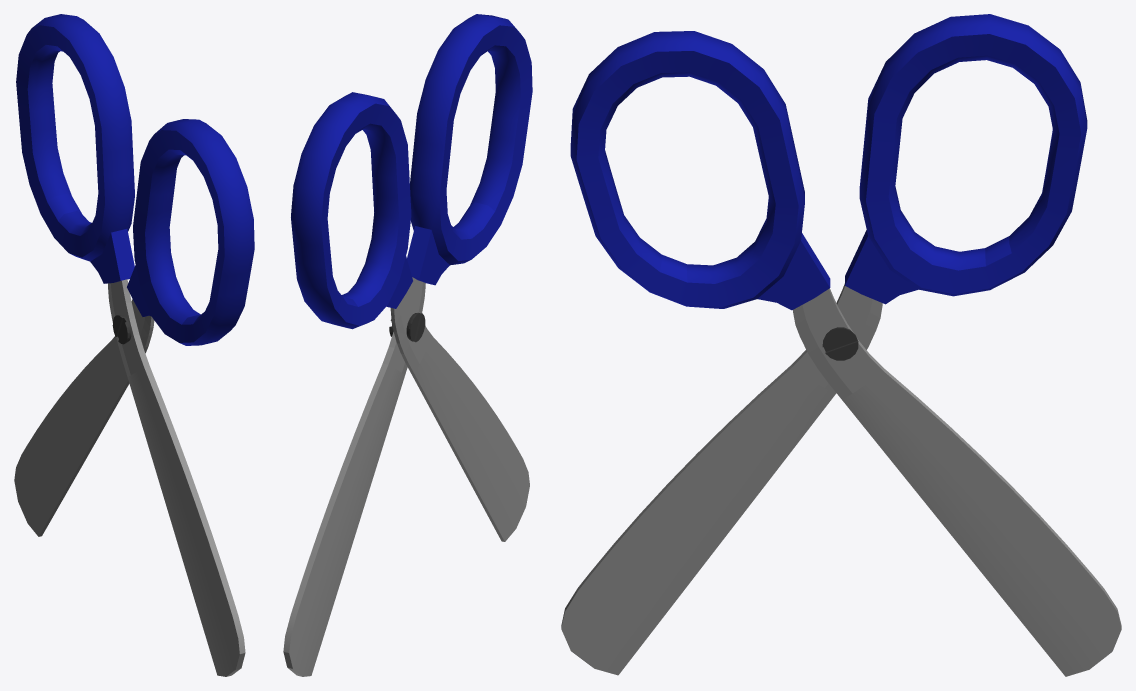
File: Scissors2.FBX
The picture shows the model from 3 angles, left to right: view 1: azimuth 30°, elevation 25°; view 2: azimuth 150°, elevation 25°; view 3: azimuth 270°, elevation 25°; orthographic projection. The views are drawn at different scales.
Parts seen in each view (by area): view 1: Box070; view 2: Box070; view 3: Box070.
Part boxes in pixels (left/top/right/bottom): Box070: left=14, top=14, right=254, bottom=676; Box070: left=283, top=14, right=532, bottom=676; Box070: left=561, top=14, right=1121, bottom=676.
Bounding box in the file's own units: 42.68 × 740 × 571.
